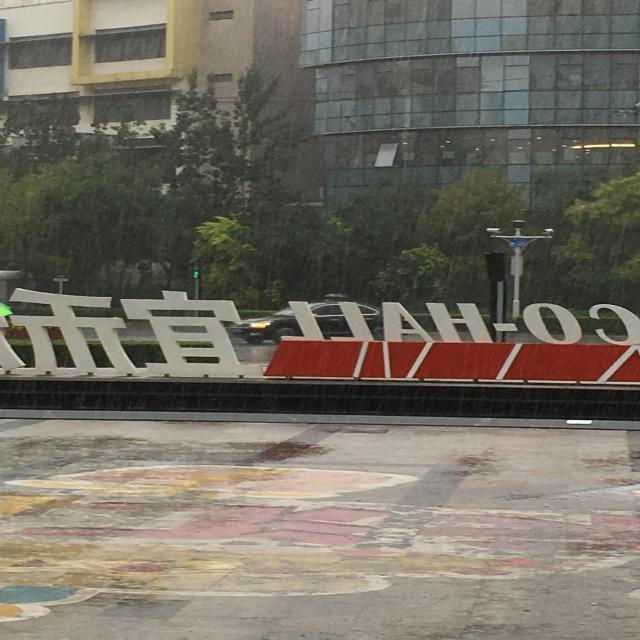car: (232, 303, 408, 344)
